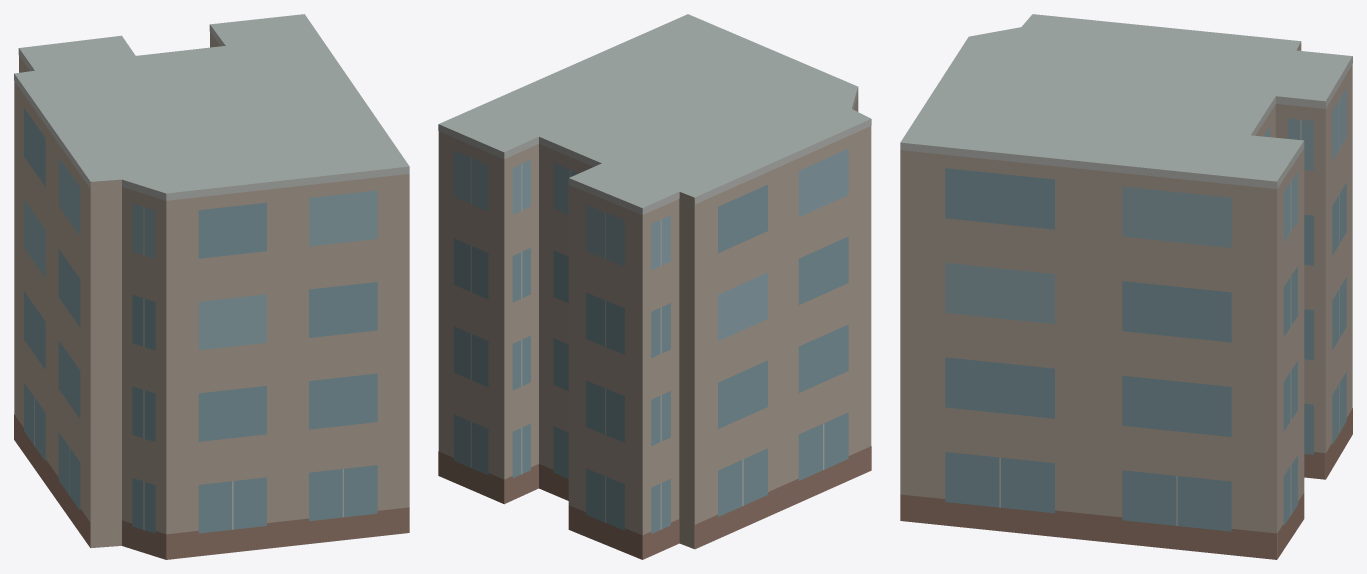
Rendered from survey-upis-32797836.glb.
3 renders of one model, left to right at view 1: azimuth 30°, elevation 25°; view 2: azimuth 150°, elevation 25°; view 3: azimuth 270°, elevation 25°, orthographic. The views are drawn at different scales.
Parts seen in each view (by area): view 1: survey-upis-32797836.tmp; view 2: survey-upis-32797836.tmp; view 3: survey-upis-32797836.tmp.
Part boxes in pixels (x1,y1,x2,y2): survey-upis-32797836.tmp: (14,14,409,559); survey-upis-32797836.tmp: (438,14,871,559); survey-upis-32797836.tmp: (900,14,1352,559).
Size of the model in its own units: 11.65 by 12.25 by 13.29.
